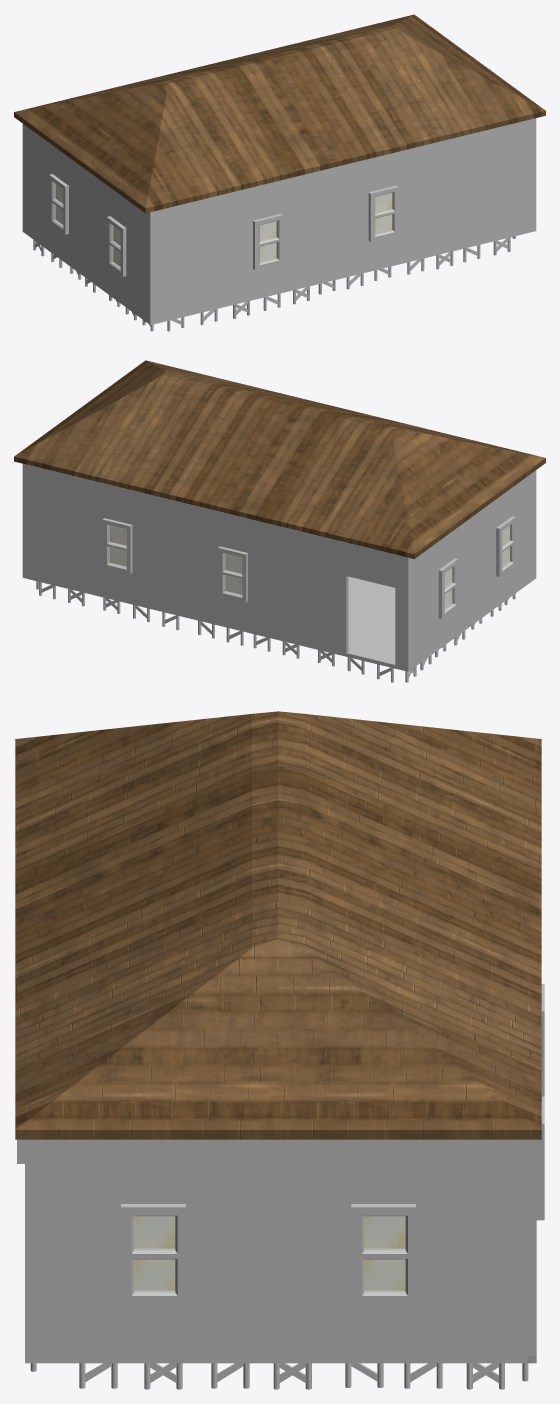
The model's file is casinha.fbx.
3 views of the same model, one above another, from view 1: azimuth 30°, elevation 25°; view 2: azimuth 150°, elevation 25°; view 3: azimuth 270°, elevation 25° (orthographic). The views are drawn at different scales.
Visible parts, largest first — view 1: group4_Casa; view 2: group4_Casa; view 3: group4_Casa.
Boxes of the visible parts, x1,y1,x2,y2 form: group4_Casa: (14,14,545,331); group4_Casa: (14,360,545,682); group4_Casa: (15,711,544,1389).
Bounding box in the file's own units: 86.08 × 39.2 × 49.29.
